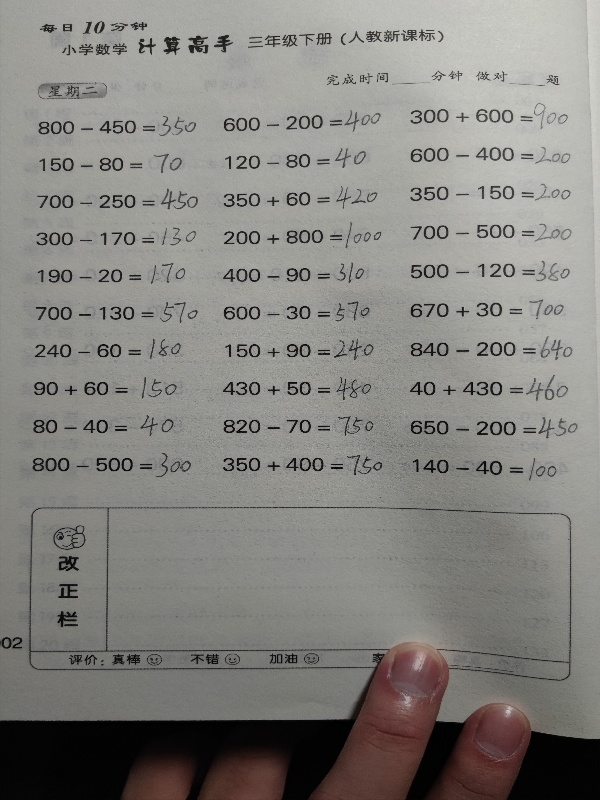equation: (407, 371, 572, 405), (29, 449, 195, 482), (221, 219, 386, 252), (406, 255, 578, 284), (407, 414, 582, 442), (220, 373, 376, 404), (29, 409, 185, 440), (221, 182, 382, 212), (35, 112, 200, 141), (33, 299, 202, 327), (32, 185, 201, 213), (220, 451, 386, 479), (408, 100, 574, 128), (408, 454, 560, 484), (407, 336, 575, 363), (222, 335, 378, 364), (407, 296, 567, 324), (406, 178, 578, 204), (35, 261, 189, 290), (36, 148, 195, 176), (220, 109, 384, 136), (34, 224, 201, 250), (30, 374, 181, 402), (220, 259, 369, 287), (219, 300, 373, 327), (406, 143, 579, 167), (31, 337, 184, 364), (220, 412, 377, 438), (220, 145, 369, 172), (406, 220, 578, 243)
